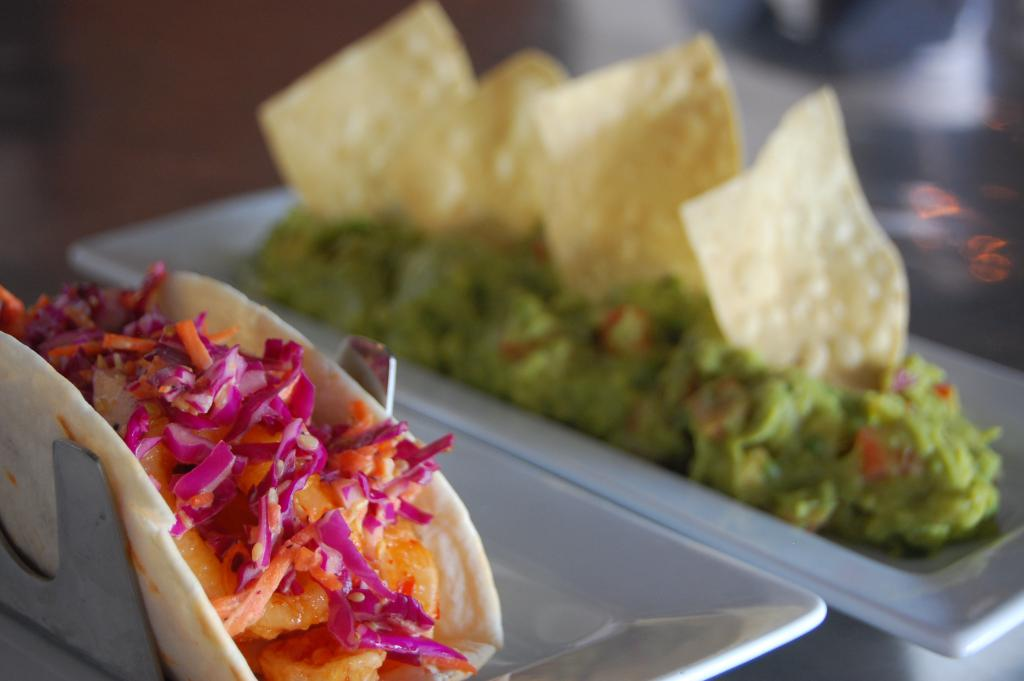taco: (0, 259, 500, 680)
